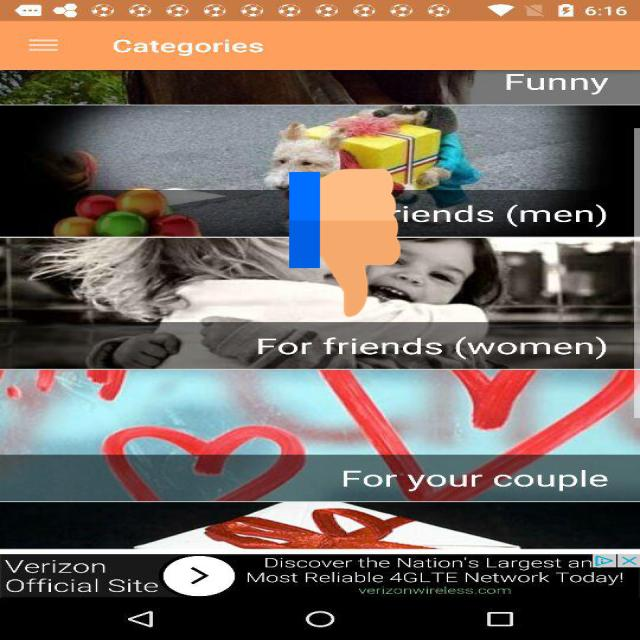obstruction: (289, 165, 401, 321)
